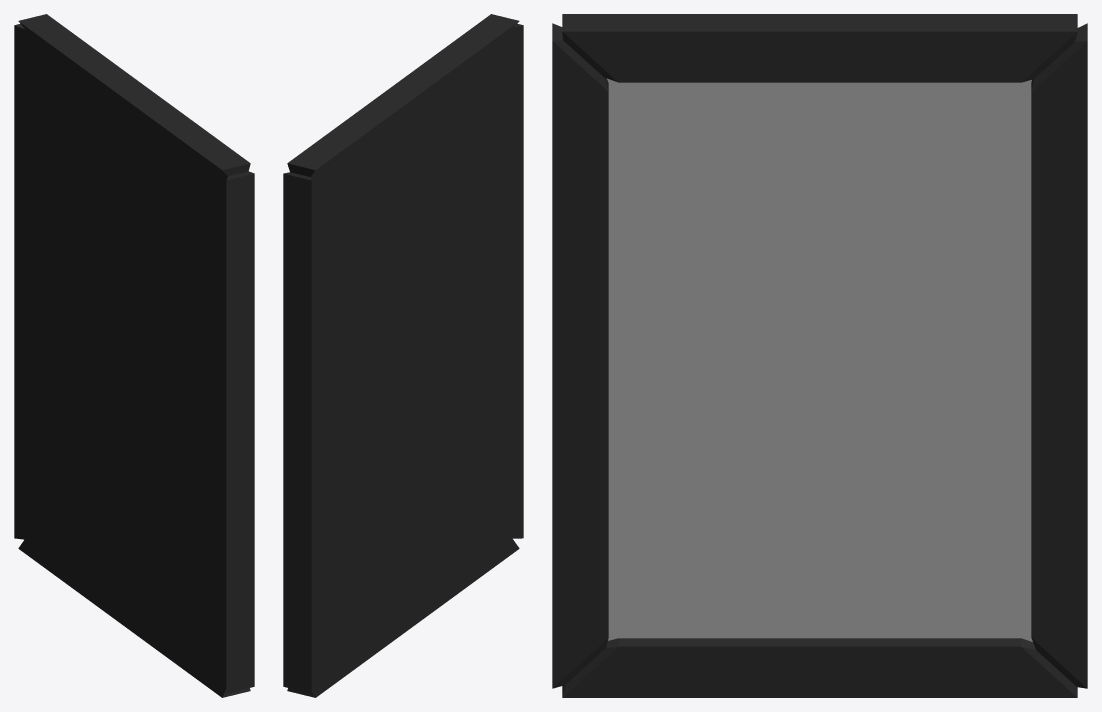
File: SM_Mirror_01.glb
The picture shows the model from 3 angles, left to right: view 1: azimuth 30°, elevation 25°; view 2: azimuth 150°, elevation 25°; view 3: azimuth 270°, elevation 25°; orthographic projection. The views are drawn at different scales.
Visible parts, largest first — view 1: SM_Mirror_01; view 2: SM_Mirror_01; view 3: SM_Mirror_01.
Part boxes in pixels (x1,y1,x2,y2): SM_Mirror_01: (14,14,254,697); SM_Mirror_01: (283,14,523,697); SM_Mirror_01: (552,14,1087,697).
Bounding box in the file's own units: 0.0519 × 0.9205 × 0.6705.
Materials: 1 (1 with a texture image).
